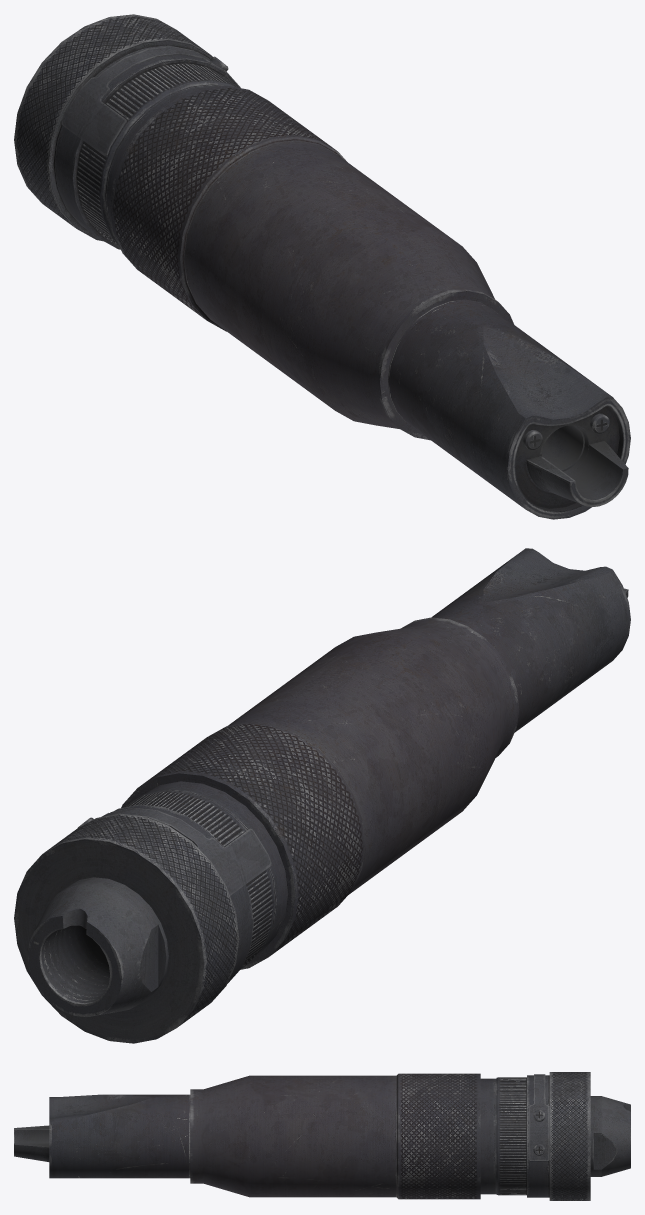
The model's file is pbs-4__-4_rifle_silencersuppressor_lowpoly.glb.
3 renders of one model, top to bottom at view 1: azimuth 30°, elevation 25°; view 2: azimuth 150°, elevation 25°; view 3: azimuth 270°, elevation 25°, orthographic. The views are drawn at different scales.
Visible parts, largest first — view 1: PBS-4; view 2: PBS-4; view 3: PBS-4.
Part boxes in pixels (x1,y1,x2,y2): PBS-4: (14,14,630,519); PBS-4: (14,548,630,1043); PBS-4: (14,1072,630,1200).
Size of the model in its own units: 0.0461 by 0.0461 by 0.2198.
Materials: 1 (1 with a texture image).
